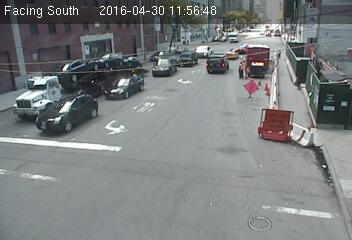neg: (256, 126, 286, 166), (153, 80, 168, 100), (157, 121, 170, 138)
pos: (232, 58, 248, 80), (270, 43, 283, 60)
